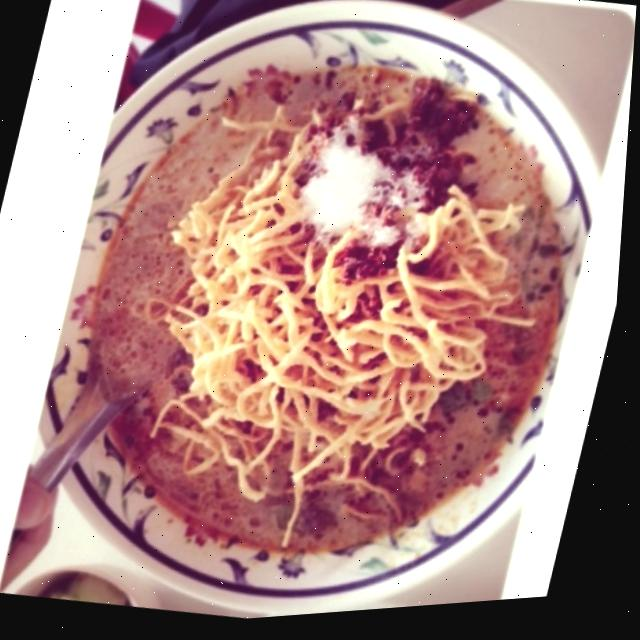面条主食: (43, 6, 613, 608)
